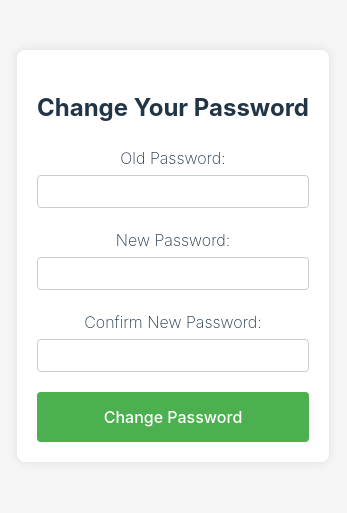
AccountSettings › shows a feedback message when new passwords do not match
In the password field with test id "oldPassword": (173, 192) [37, 175, 309, 208], type "oldpass"
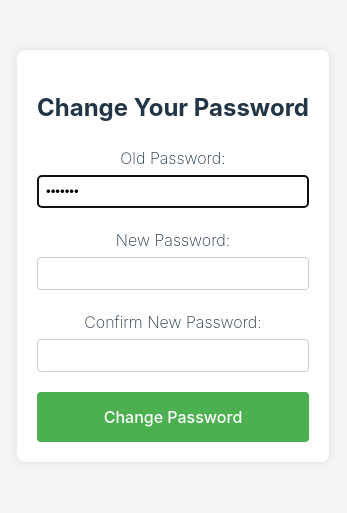
In the password field with test id "newPassword": (173, 274) [37, 257, 309, 290], type "newpass"
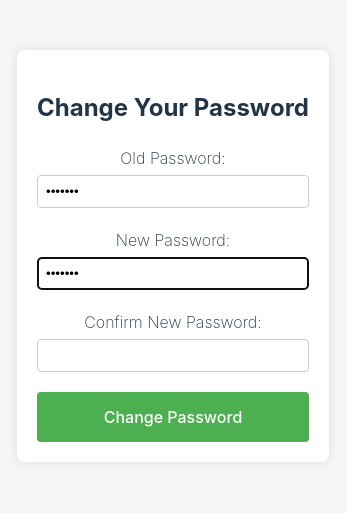
In the password field with test id "confirmPassword": (173, 356) [37, 339, 309, 372], type "newpass2"
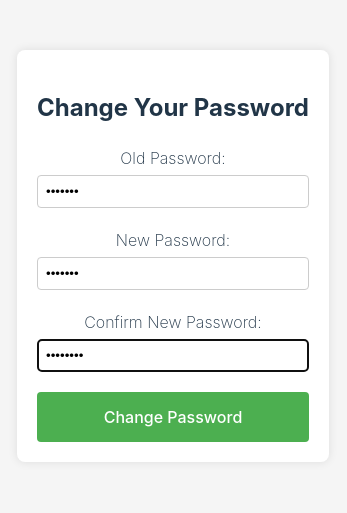
Click the button "Change Password": (173, 417) [37, 392, 309, 442]
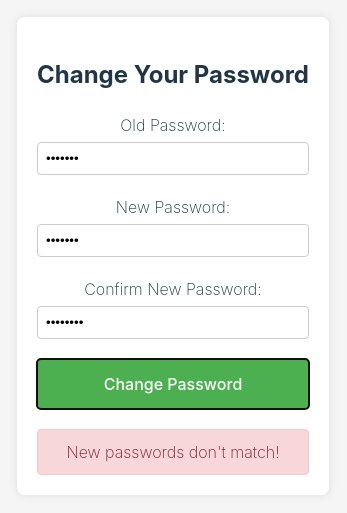
expect the text "New passwords don't match!" is shown: met, box [37, 429, 309, 475]
